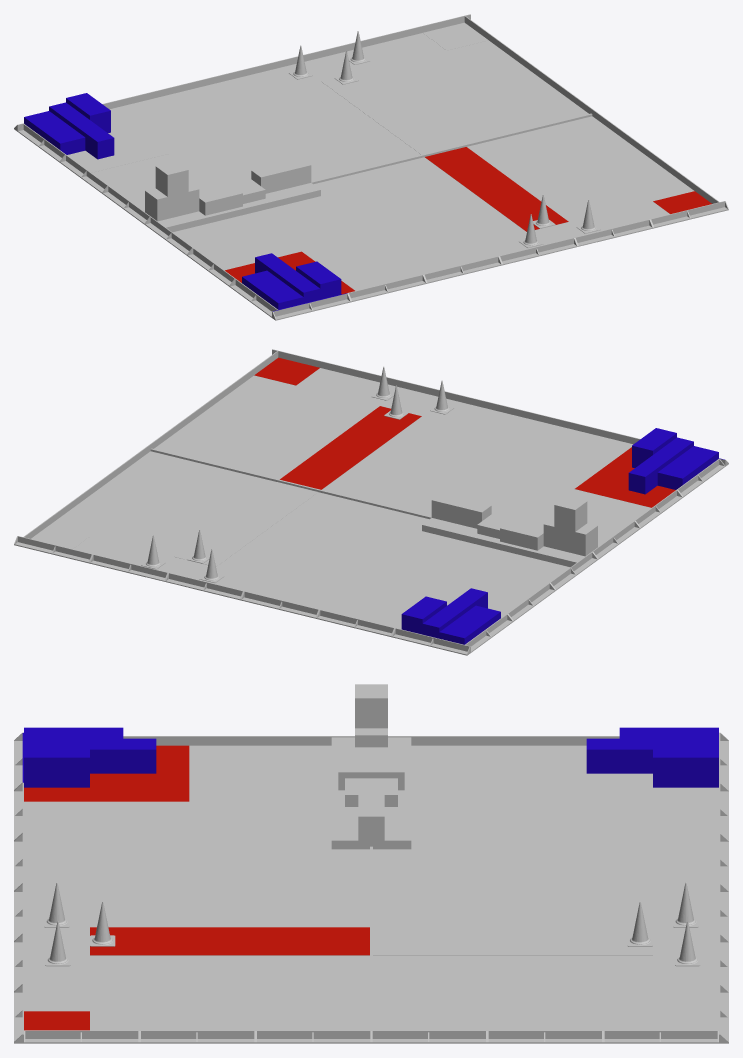
File: field2025.obj
The picture shows the model from 3 angles, top to bottom: view 1: azimuth 30°, elevation 25°; view 2: azimuth 150°, elevation 25°; view 3: azimuth 270°, elevation 25°; orthographic projection. The views are drawn at different scales.
Parts seen in each view (by area): view 1: field2025.007, field2025.015, field2025.009, field2025.016, field2025, field2025.002, field2025.013, field2025.005, field2025.010, field2025.001, field2025.012, field2025.011 (+6 smaller); view 2: field2025.016, field2025.009, field2025.015, field2025.007, field2025, field2025.002, field2025.005, field2025.013, field2025.001, field2025.010, field2025.004, field2025.011 (+6 smaller); view 3: field2025.007, field2025.016, field2025.009, field2025.015, field2025, field2025.005, field2025.013, field2025.001, field2025.010, field2025.002, field2025.004, field2025.012 (+5 smaller).
Boxes of the visible parts, x1,y1,x2,y2 form: field2025.007: (173,167,501,290); field2025.015: (255,33,588,164); field2025.009: (383,116,694,254); field2025.016: (92,74,378,206); field2025: (14,14,728,320); field2025.002: (145,158,311,221); field2025.013: (321,71,462,154); field2025.005: (425,147,568,231); field2025.010: (24,93,114,159); field2025.001: (242,253,347,311); field2025.012: (67,112,167,172); field2025.011: (137,183,320,232); field2025.016: (241,502,569,625); field2025.009: (154,368,487,499); field2025.015: (48,451,359,589); field2025.007: (364,409,650,541); field2025: (14,349,728,655); field2025.002: (431,493,597,556); field2025.005: (280,406,421,489); field2025.013: (174,482,317,566); field2025.001: (628,428,724,494); field2025.010: (401,588,500,644); field2025.004: (575,447,675,507); field2025.011: (422,518,605,567); field2025.007: (24,745,369,899); field2025.016: (373,745,718,899); field2025.009: (24,899,369,1030); field2025.015: (373,899,718,1030); field2025: (14,732,728,1043); field2025.005: (90,927,369,955); field2025.013: (373,927,652,955); field2025.001: (22,727,156,787); field2025.010: (586,727,718,787); field2025.002: (338,684,404,840); field2025.004: (24,745,189,801); field2025.012: (553,745,718,801).
Bounding box in the file's own units: 10.8 × 1.14 × 10.8.
